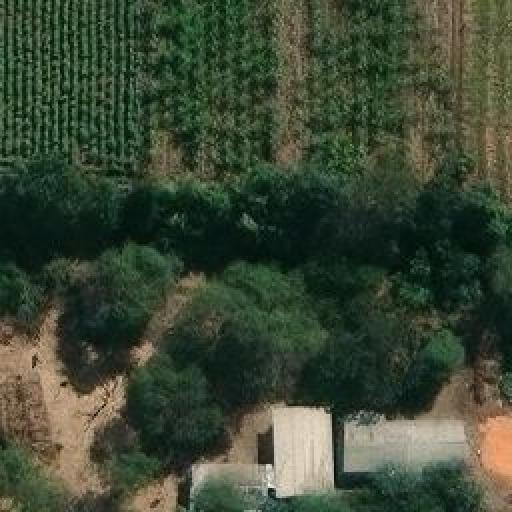manzanas: (180, 404, 473, 510)
